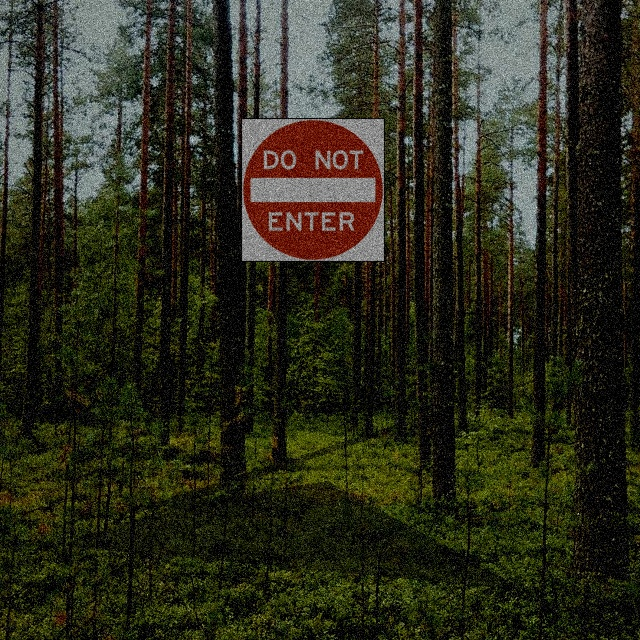DO_NOT_ENTER: (241, 118, 385, 262)
